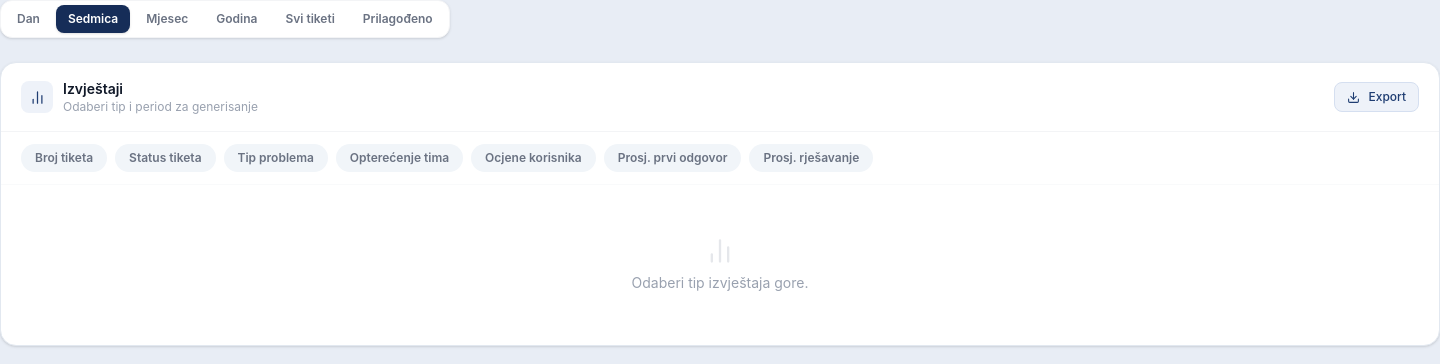
Scenario: AdminDashboardSection (reports mode) — generisanje + export (PB-45 / US-83, US-85) › prazan rezultat prikazuje informativnu poruku
Click the button "Broj tiketa": (64, 158) [21,144,107,172]
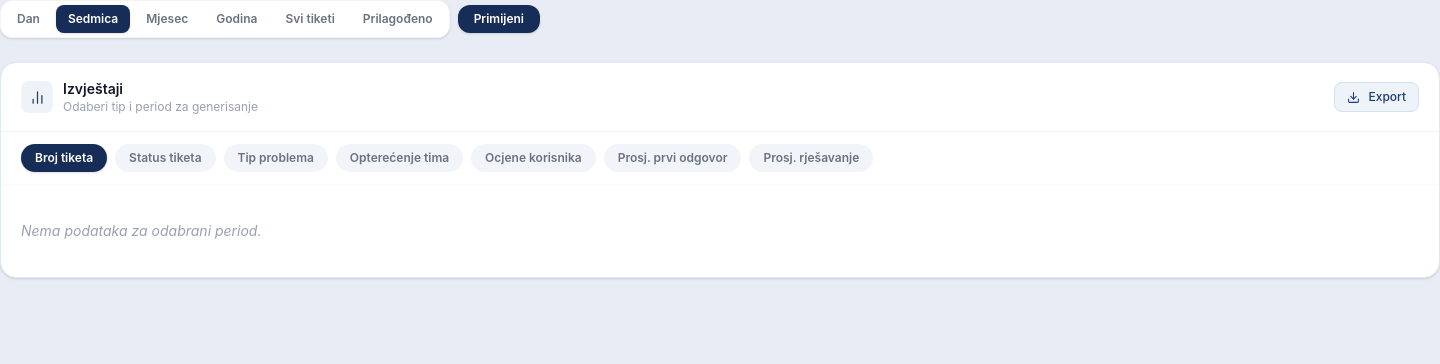
Check: the text "Nema podataka za odabrani period." is shown, box [21,222,261,239]
